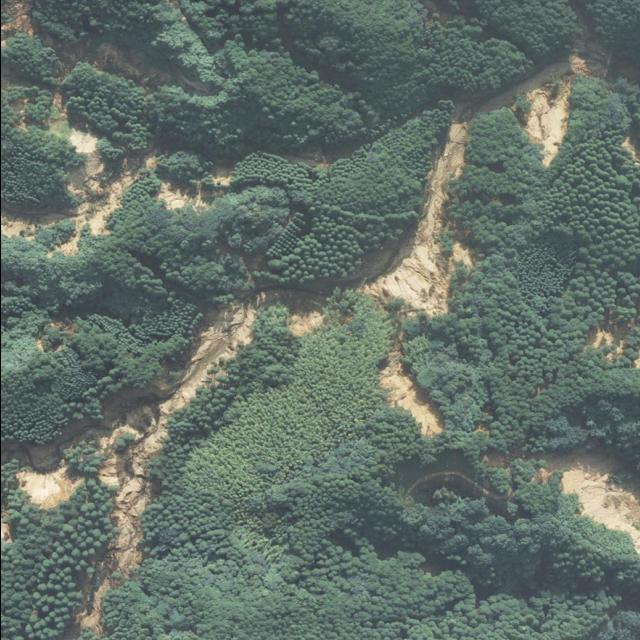landslide: (1, 286, 323, 631), (327, 52, 597, 321), (0, 0, 214, 94), (539, 450, 640, 552), (54, 169, 138, 254), (378, 341, 443, 437), (586, 321, 636, 359), (67, 129, 96, 153), (160, 189, 191, 208), (0, 217, 26, 234)
